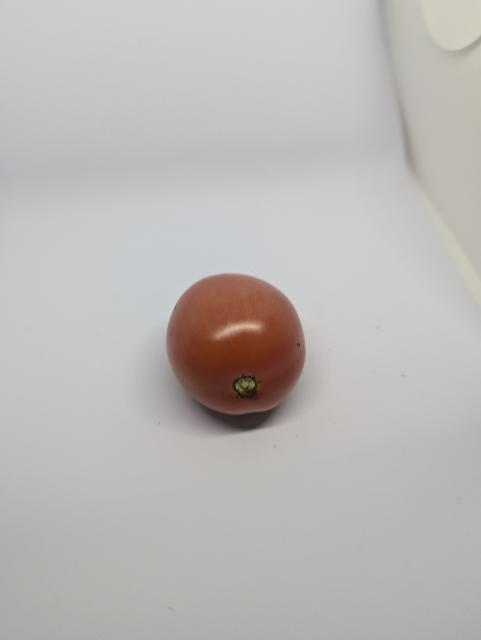red: (163, 260, 316, 435)
